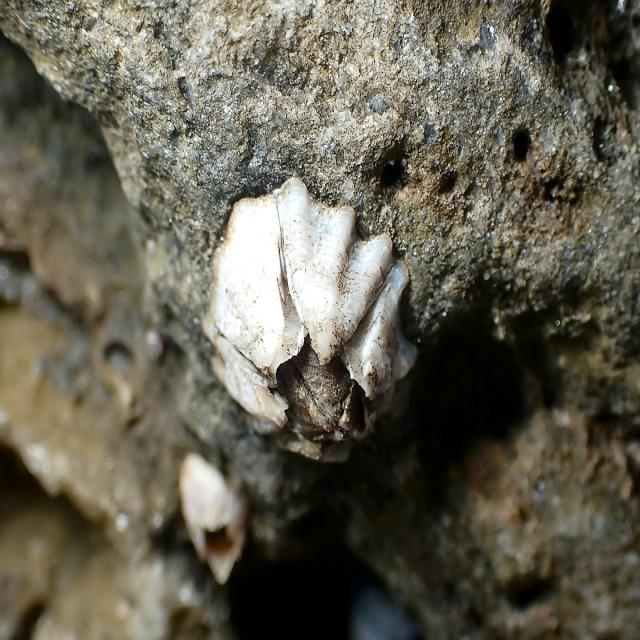barnacles: (197, 166, 424, 470), (169, 453, 261, 590)
